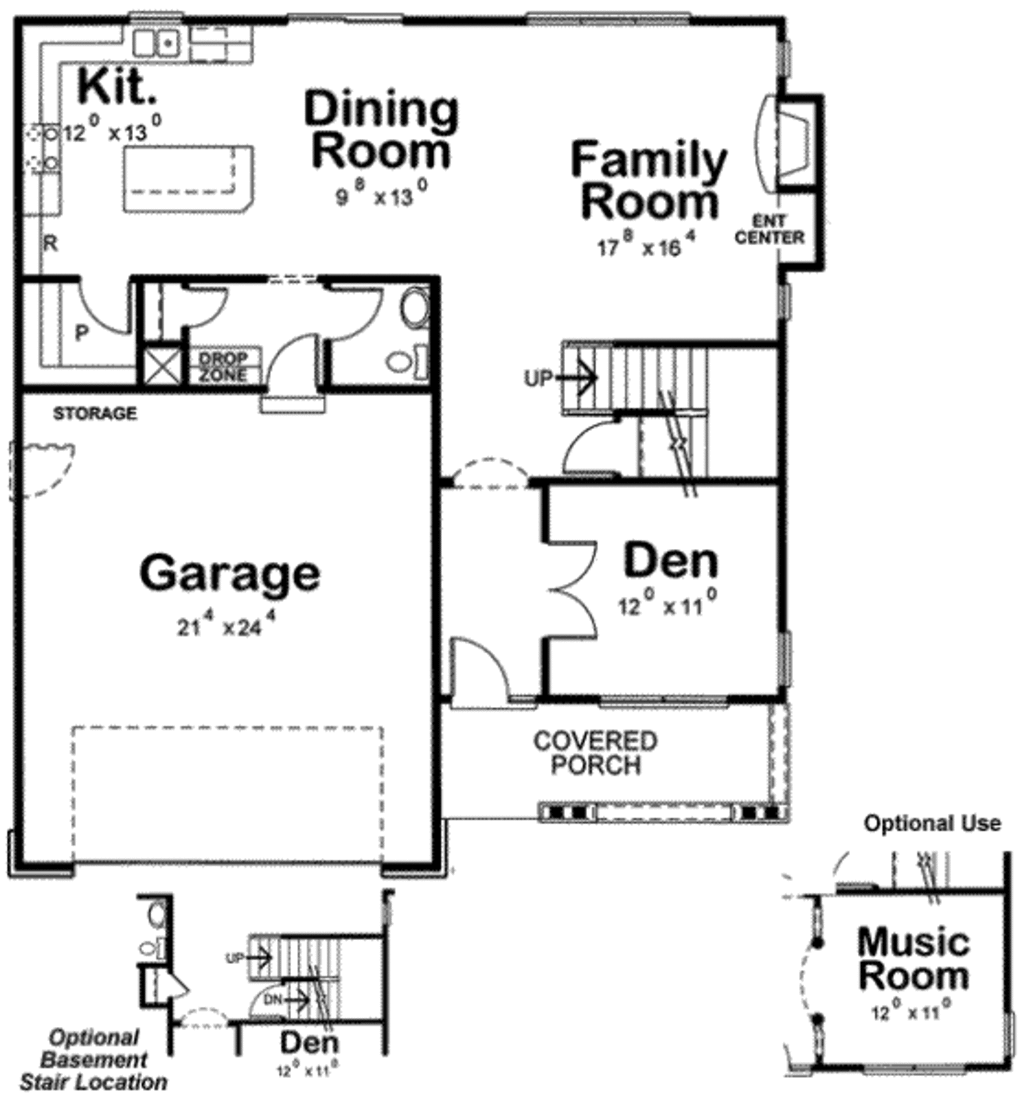door: (439, 630, 539, 711), (541, 533, 600, 648), (66, 272, 141, 338), (269, 333, 332, 411), (552, 411, 627, 474), (322, 284, 378, 340), (176, 282, 227, 331), (249, 984, 286, 1023), (156, 970, 185, 999)
large_sink: (376, 333, 436, 379), (137, 935, 168, 958)
small_sink: (395, 267, 437, 335), (146, 897, 171, 936)
stairs: (554, 336, 712, 477), (247, 936, 376, 1033)
twin_sink: (130, 21, 203, 74)
window: (520, 2, 686, 33), (593, 696, 736, 714), (985, 1011, 1024, 1061), (775, 35, 800, 89), (775, 287, 798, 321), (776, 628, 788, 692), (859, 1068, 966, 1070)
